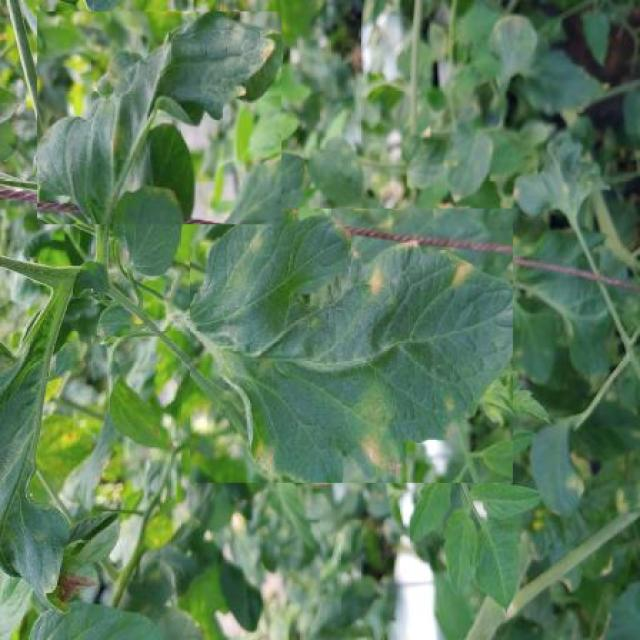Leaf Mold: (191, 209, 514, 482), (37, 12, 282, 225)
